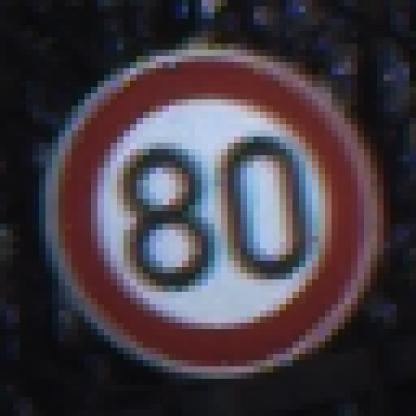Speed Limit 80: (54, 53, 377, 374)
